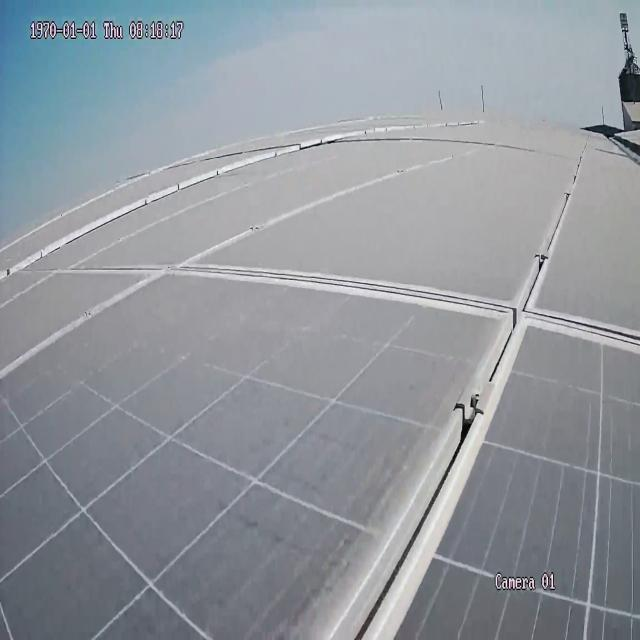interior panel: (187, 158, 640, 640)
